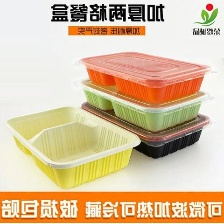plastic_box: (69, 46, 222, 162), (0, 100, 146, 191)
